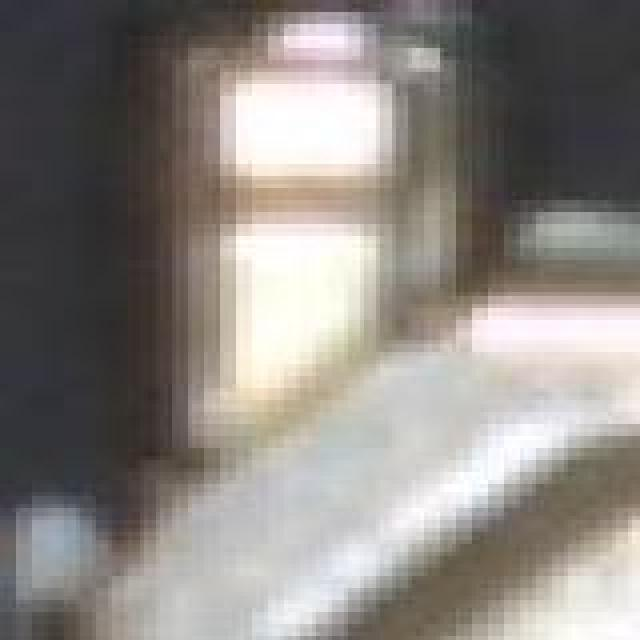switch: (24, 24, 640, 640)
